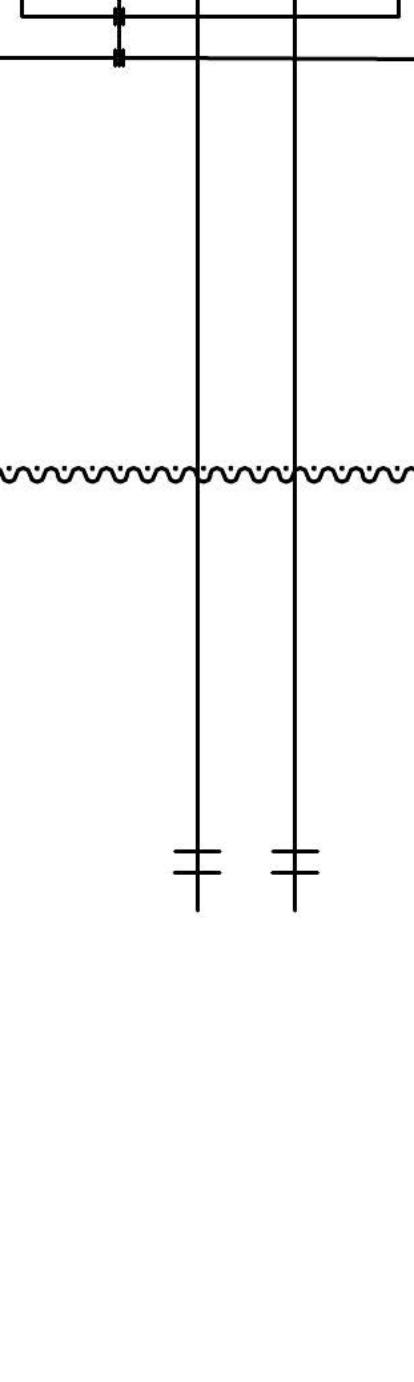115_buffer: (270, 849, 320, 875), (172, 849, 222, 875)
